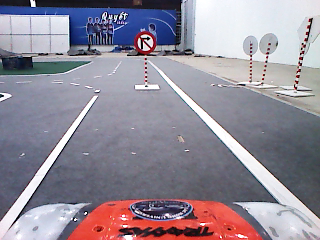ban: (132, 30, 157, 55)
